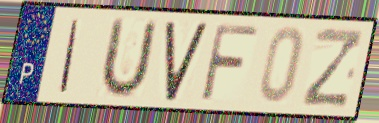0: (255, 25, 306, 109)
F: (197, 21, 262, 105)
I: (56, 16, 82, 95)
U: (95, 15, 160, 101)
V: (163, 20, 211, 104)
Z: (299, 25, 366, 109)
